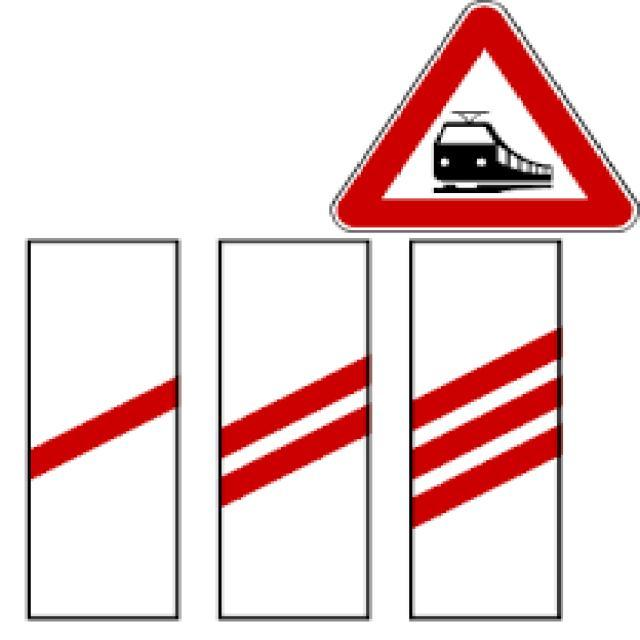unguarded level crossing: (317, 7, 630, 230)
